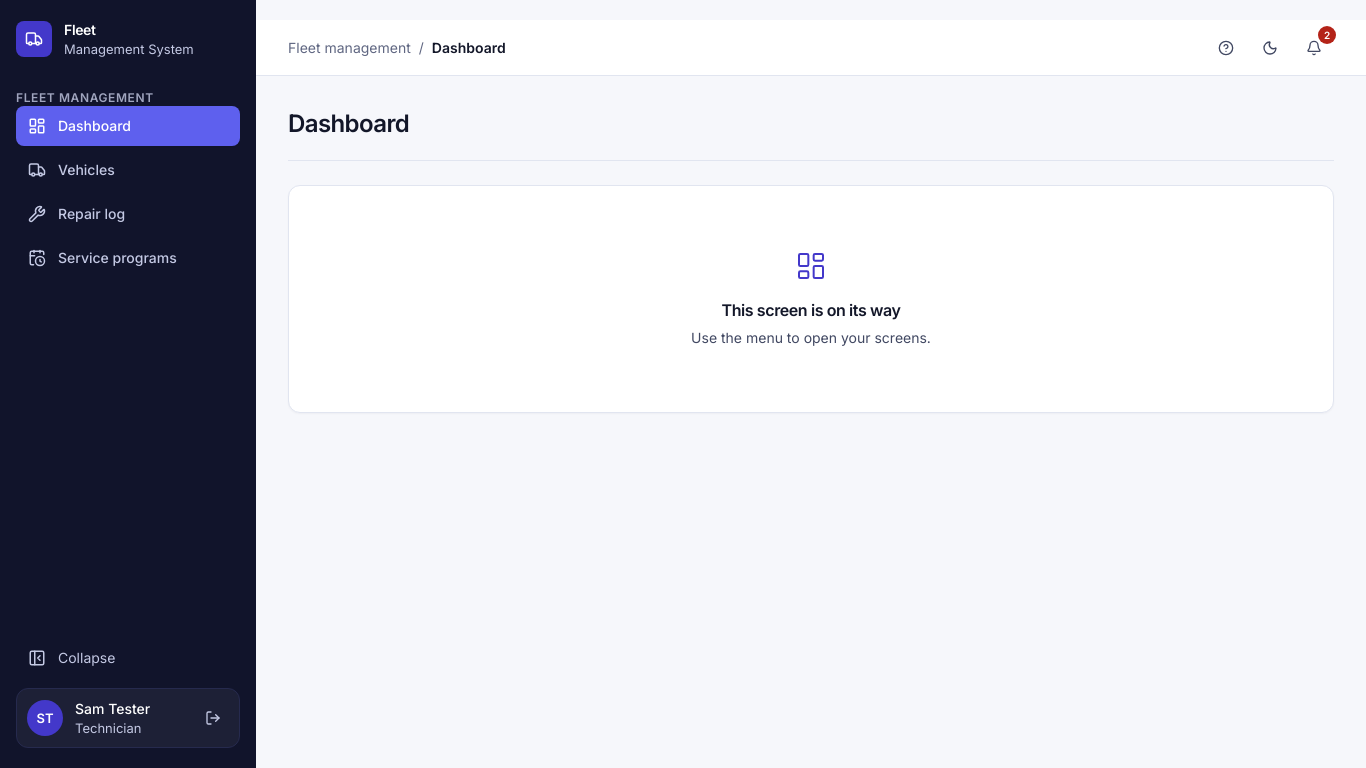
the panel › says how many are not shown when there are more than the panel lists
The width and height of the screenshot is (1366, 768).
Click the button named "Notifications" at (1314, 48), box [1294,28,1334,68]
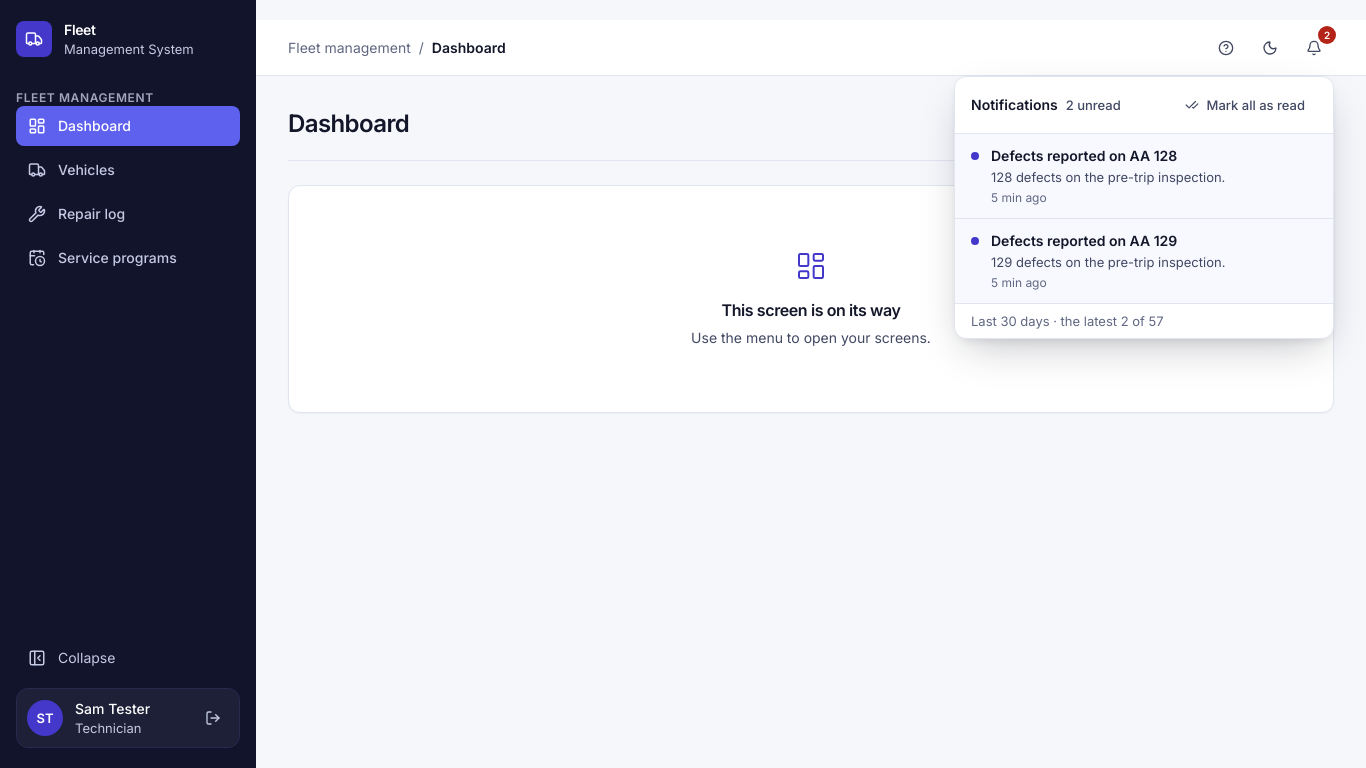
expect the text "Last 30 days · the latest 2 of 57" is shown: met, box [955,302,1333,338]
